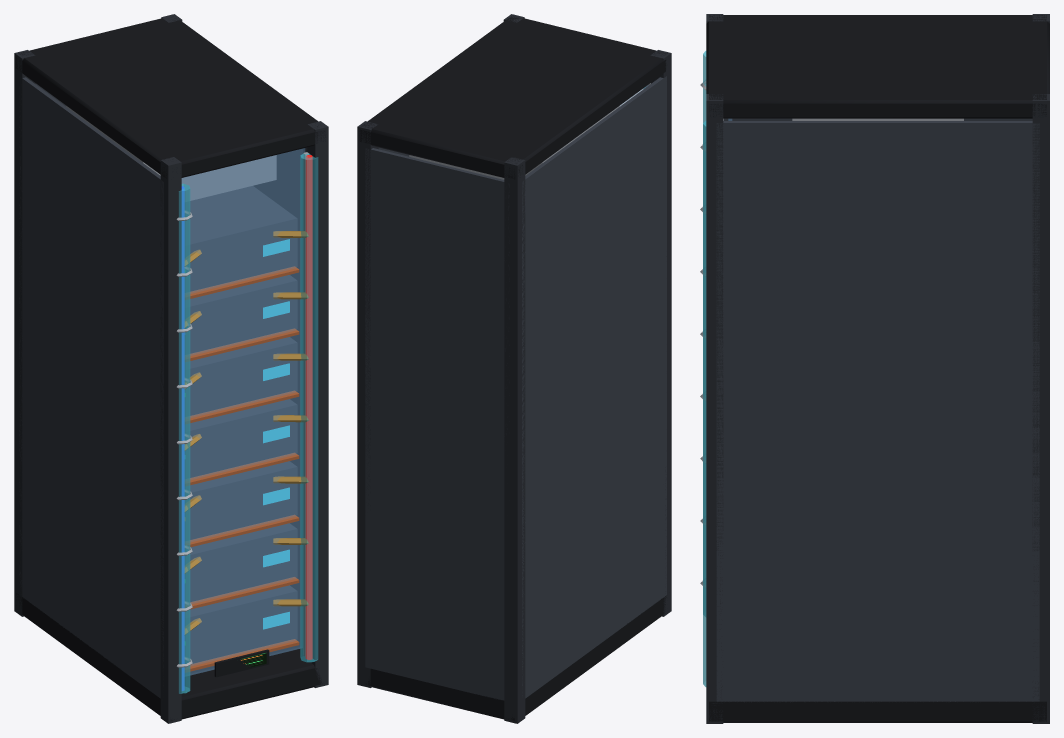
The model's file is rack_liquid_cooled_cabinet.glb.
3 views of the same model, side by side, from view 1: azimuth 30°, elevation 25°; view 2: azimuth 150°, elevation 25°; view 3: azimuth 270°, elevation 25° (orthographic). The views are drawn at different scales.
Visible parts, largest first — view 1: rack_liquid_cooled_cabinet; view 2: rack_liquid_cooled_cabinet; view 3: rack_liquid_cooled_cabinet.
Boxes of the visible parts, <box> form: rack_liquid_cooled_cabinet: <box>14,14,328,723</box>; rack_liquid_cooled_cabinet: <box>357,14,671,723</box>; rack_liquid_cooled_cabinet: <box>700,14,1049,723</box>.
Bounding box in the file's own units: 0.6 × 2 × 1.02.
15 materials, 1 textured.
